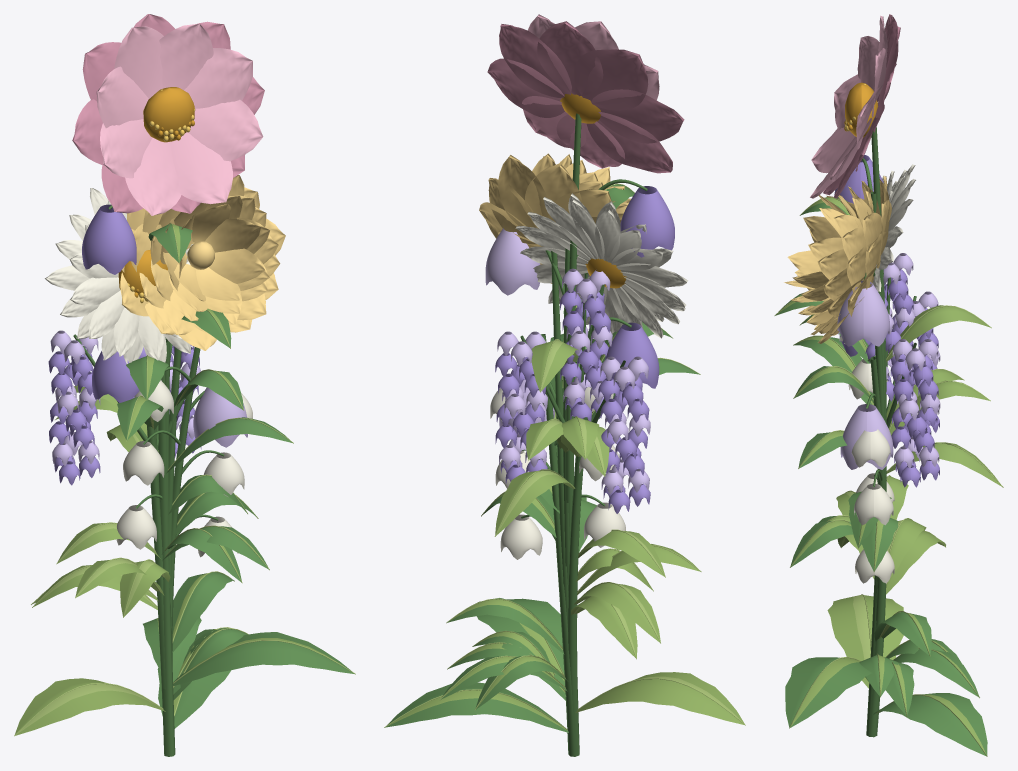
File: botanical-flowers.glb
The picture shows the model from 3 angles, left to right: view 1: azimuth 30°, elevation 25°; view 2: azimuth 150°, elevation 25°; view 3: azimuth 270°, elevation 25°; orthographic projection. The views are drawn at different scales.
Visible parts, largest first — view 1: Flower_cosmos, Flower_ranunculus, Flower_lily, Flower_daisy, Flower_lavender, Flower_bellflower; view 2: Flower_cosmos, Flower_lavender, Flower_daisy, Flower_lily, Flower_ranunculus, Flower_bellflower; view 3: Flower_lily, Flower_lavender, Flower_ranunculus, Flower_cosmos, Flower_bellflower, Flower_daisy.
Boxes of the visible parts, x1=… form: Flower_cosmos: x1=56, y1=14, x2=293, y2=756; Flower_ranunculus: x1=55, y1=175, x2=285, y2=671; Flower_lily: x1=14, y1=347, x2=355, y2=736; Flower_daisy: x1=32, y1=188, x2=269, y2=753; Flower_lavender: x1=31, y1=330, x2=248, y2=699; Flower_bellflower: x1=74, y1=204, x2=247, y2=742; Flower_cosmos: x1=446, y1=14, x2=684, y2=754; Flower_lavender: x1=472, y1=268, x2=700, y2=700; Flower_daisy: x1=447, y1=193, x2=688, y2=756; Flower_lily: x1=384, y1=334, x2=745, y2=756; Flower_ranunculus: x1=475, y1=153, x2=653, y2=710; Flower_bellflower: x1=439, y1=179, x2=701, y2=740; Flower_lily: x1=785, y1=356, x2=987, y2=756; Flower_lavender: x1=793, y1=253, x2=1003, y2=697; Flower_ranunculus: x1=784, y1=176, x2=961, y2=737; Flower_cosmos: x1=798, y1=14, x2=991, y2=736; Flower_bellflower: x1=774, y1=155, x2=979, y2=729; Flower_daisy: x1=790, y1=164, x2=990, y2=716.
Size of the model in its own units: 1.09 by 2.49 by 0.7346.
